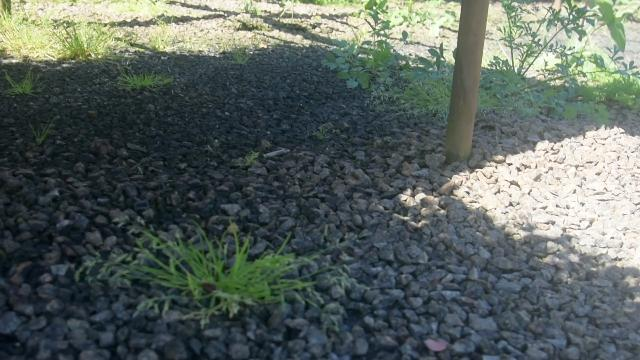MalezaMontesDelPlata: (90, 217, 356, 316), (500, 0, 632, 120), (385, 40, 520, 115), (322, 0, 407, 91), (0, 0, 59, 56), (58, 15, 128, 61), (19, 110, 62, 153), (110, 64, 180, 90), (0, 65, 44, 98), (147, 15, 177, 52)
